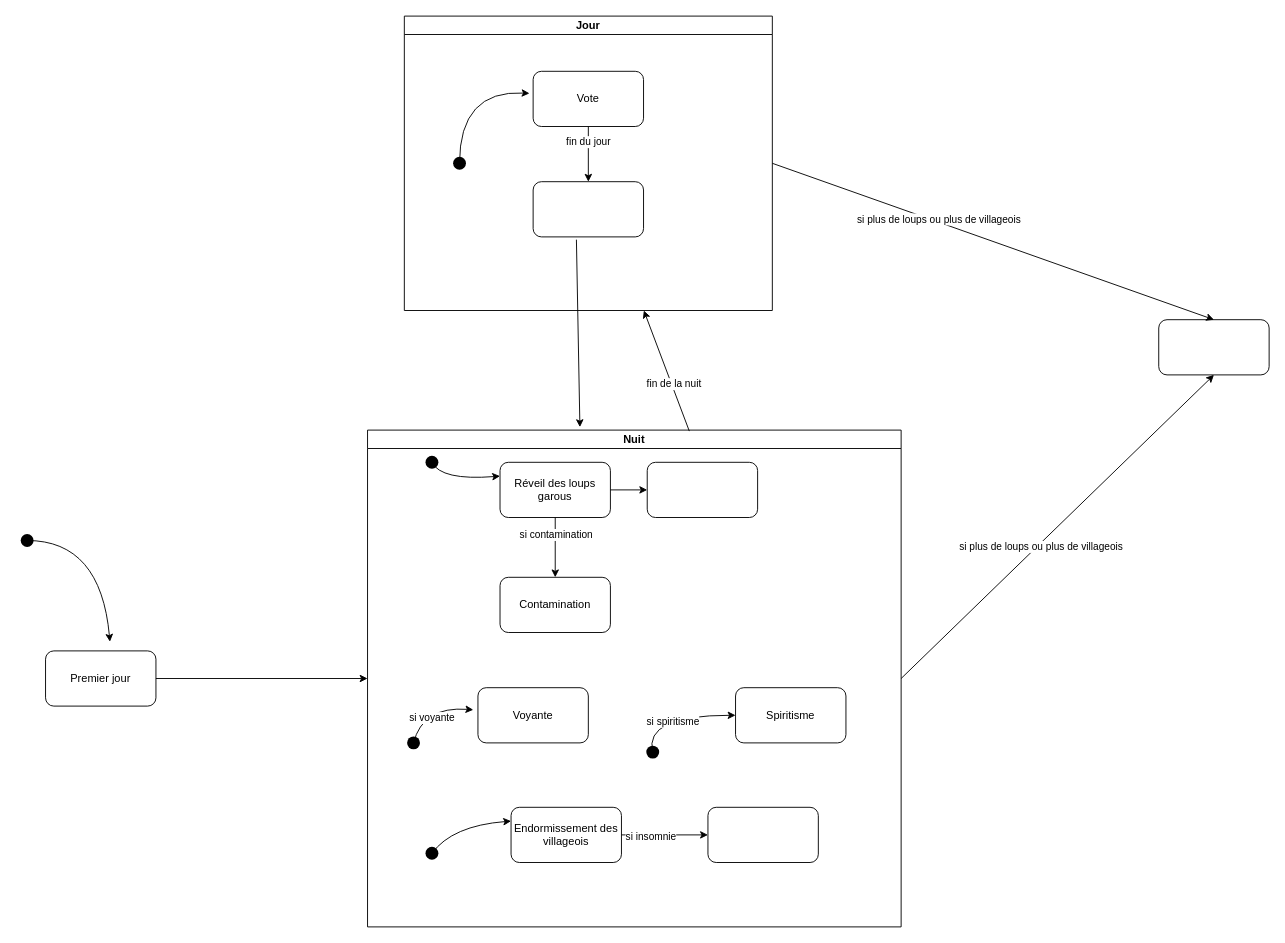
Image size: 1285x943. Some labels were removed from this diagram. The shapes that lost their labels are listed below. From the top down, each one's centre as x and y in pixels, then its label:
At point (588, 209): "Résultat du vote".
At point (1213, 347): "Fin de partie".
At point (702, 489): "Vote de la victime".
At point (762, 834): "Insomnie".
